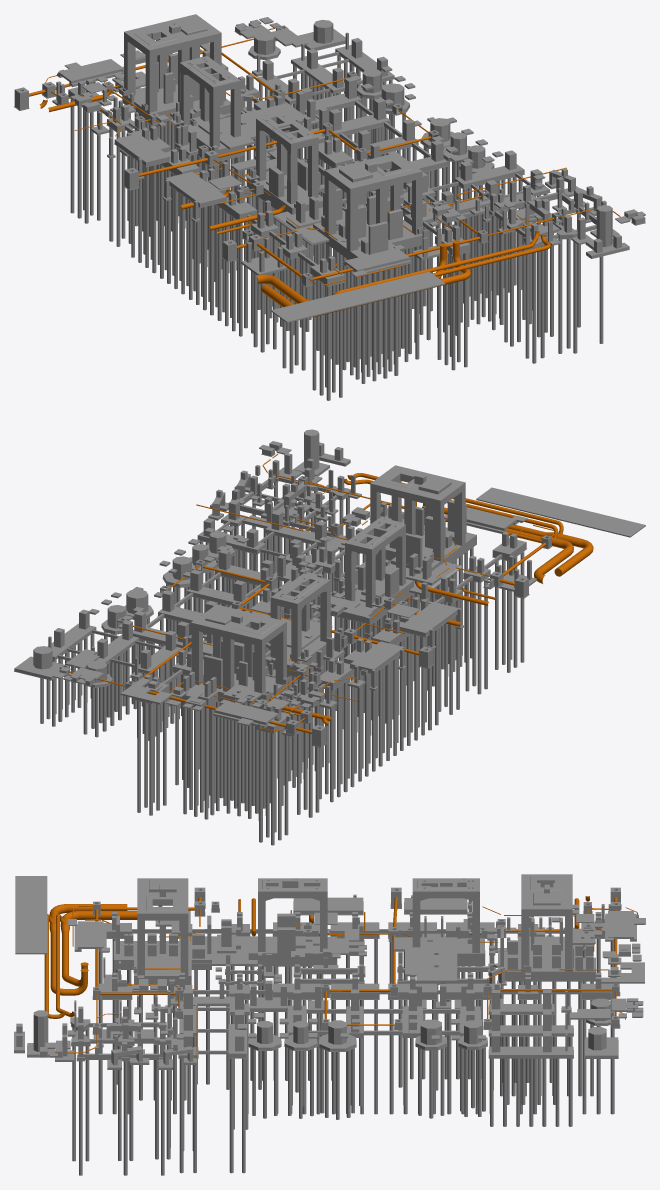
3 renders of one model, top to bottom at view 1: azimuth 30°, elevation 25°; view 2: azimuth 150°, elevation 25°; view 3: azimuth 270°, elevation 25°, orthographic. The views are drawn at different scales.
Size of the model in its own units: 67.72 by 33.74 by 98.63.
